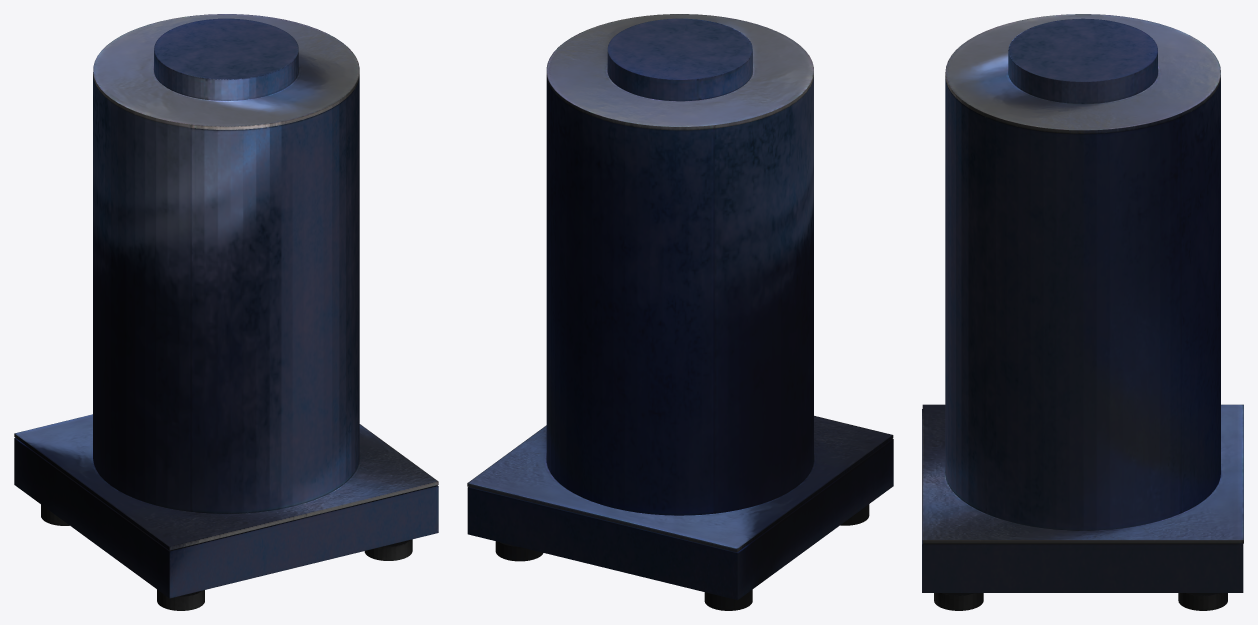
3 views of the same model, side by side, from view 1: azimuth 30°, elevation 25°; view 2: azimuth 150°, elevation 25°; view 3: azimuth 270°, elevation 25° (orthographic). The views are drawn at different scales.
Visible parts, largest first — view 1: Base; view 2: Base; view 3: Base.
Boxes of the visible parts, box(x1,y1,x2,y2) form: Base: box(14, 14, 438, 610); Base: box(467, 14, 893, 610); Base: box(922, 14, 1243, 610).
Size of the model in its own units: 0.4663 by 0.4668 by 0.7985.
3 materials, 3 textured.
